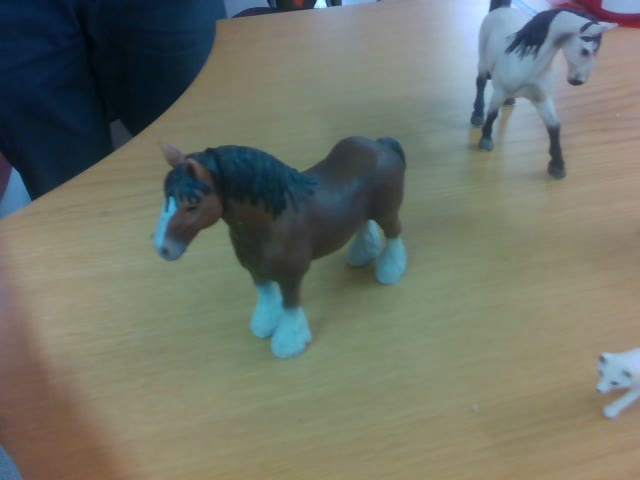toy: (152, 136, 407, 361), (469, 1, 620, 179)
